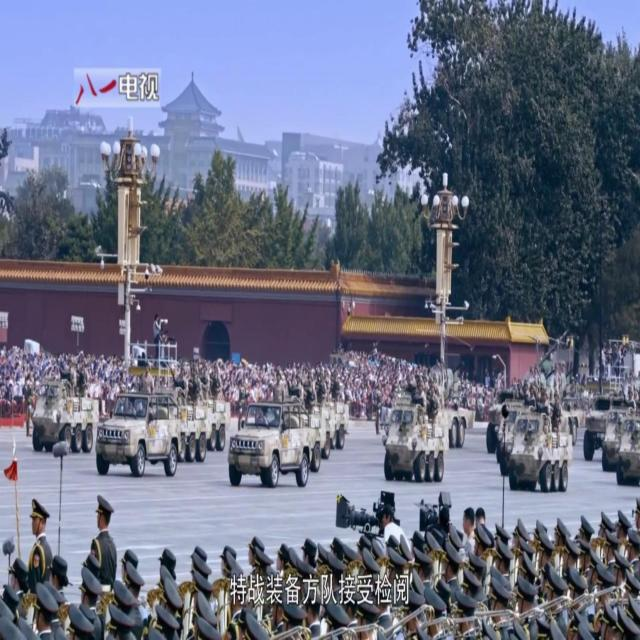Soldier: (79, 490, 121, 580), (17, 500, 55, 584)
